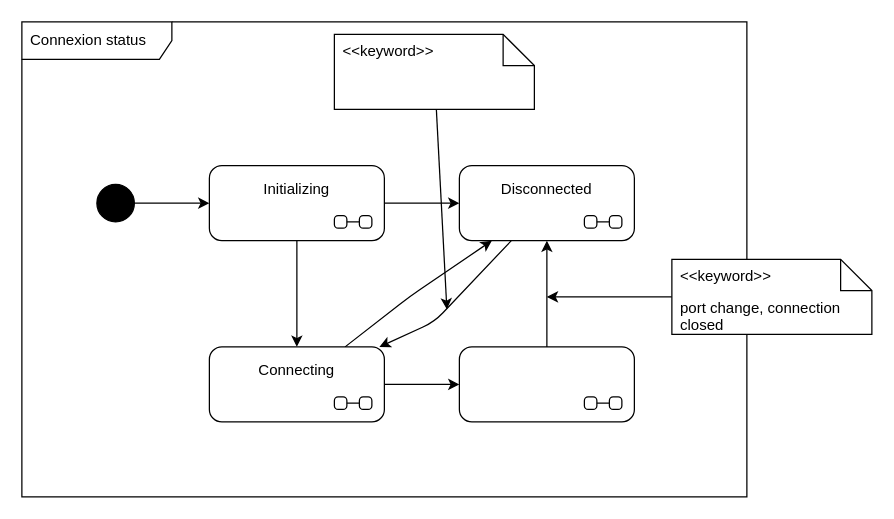
Image size: 894x519. Some labels were removed from this diagram. Each missing label, with the centre of its shape:
Connected: (546,384)
port change: (433,71)
